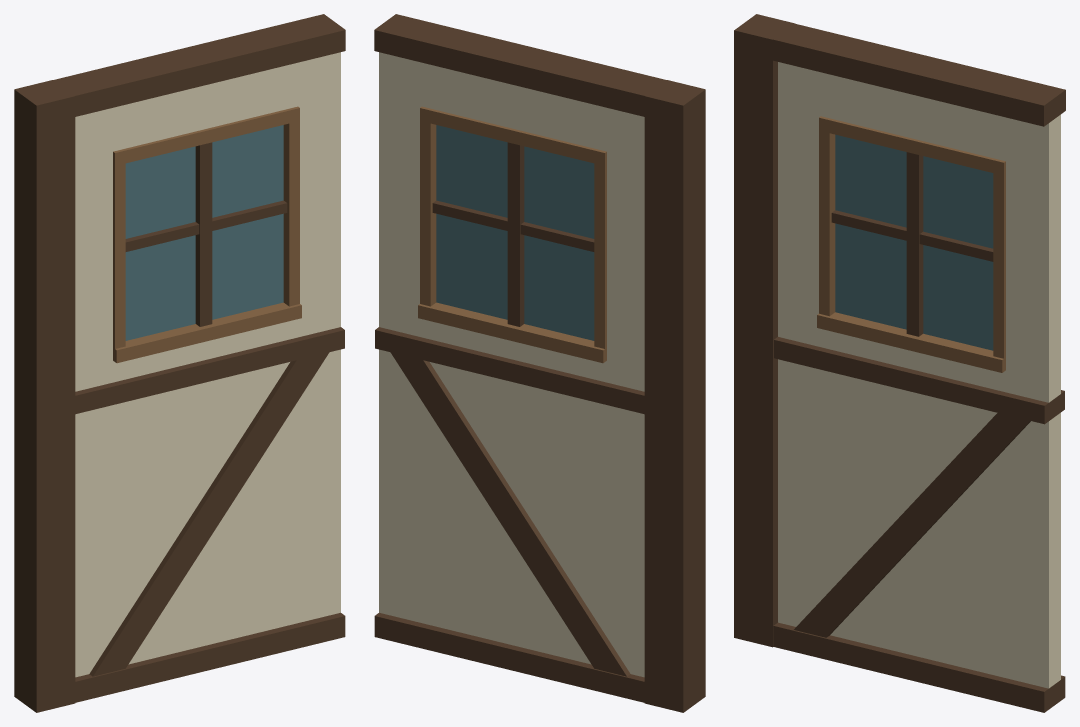
The model's file is four_light_window.glb.
3 views of the same model, side by side, from view 1: azimuth 30°, elevation 25°; view 2: azimuth 150°, elevation 25°; view 3: azimuth 330°, elevation 25° (orthographic).
Visible parts, largest first — view 1: Four-light window; view 2: Four-light window; view 3: Four-light window.
Boxes of the visible parts, x1,y1,x2,y2 form: Four-light window: (14,14,345,712); Four-light window: (374,14,705,712); Four-light window: (734,14,1065,712).
Bounding box in the file's own units: 1 × 1.88 × 0.125.
